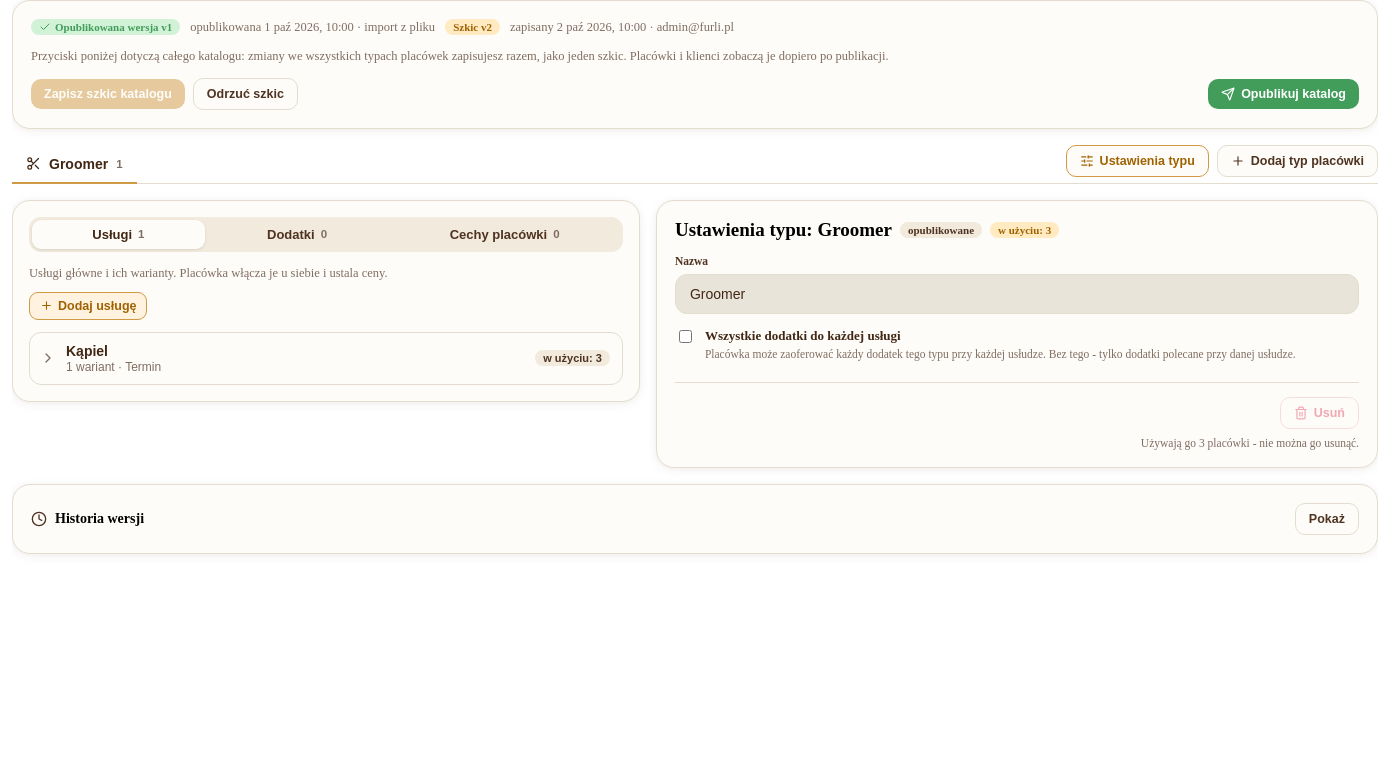
Scenario: Katalog usług › publishes a draft without issues after confirmation
The width and height of the screenshot is (1390, 768).
Click the button "Opublikuj katalog".
click(1284, 94)  # box [1208, 79, 1359, 109]
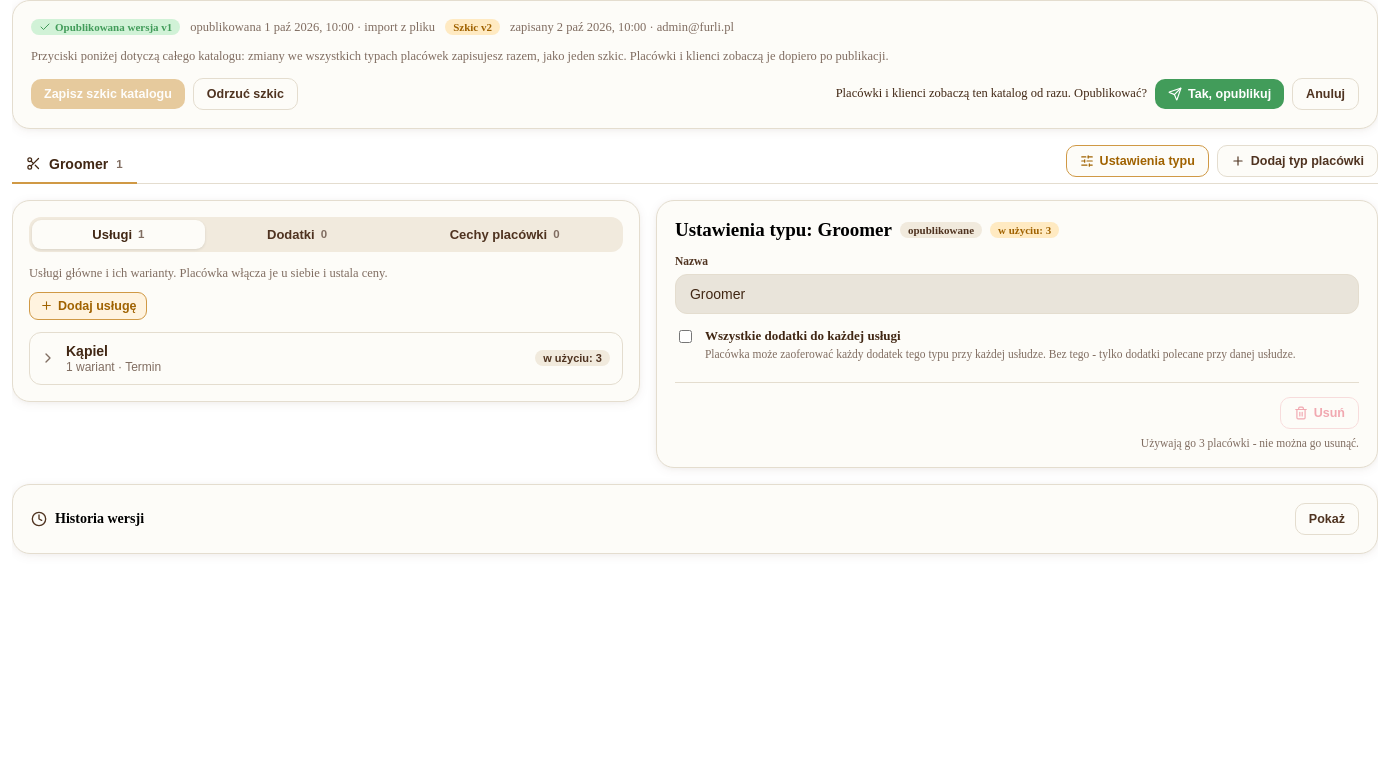
Click the button "Tak, opublikuj".
click(1220, 94)  # box [1155, 79, 1284, 109]
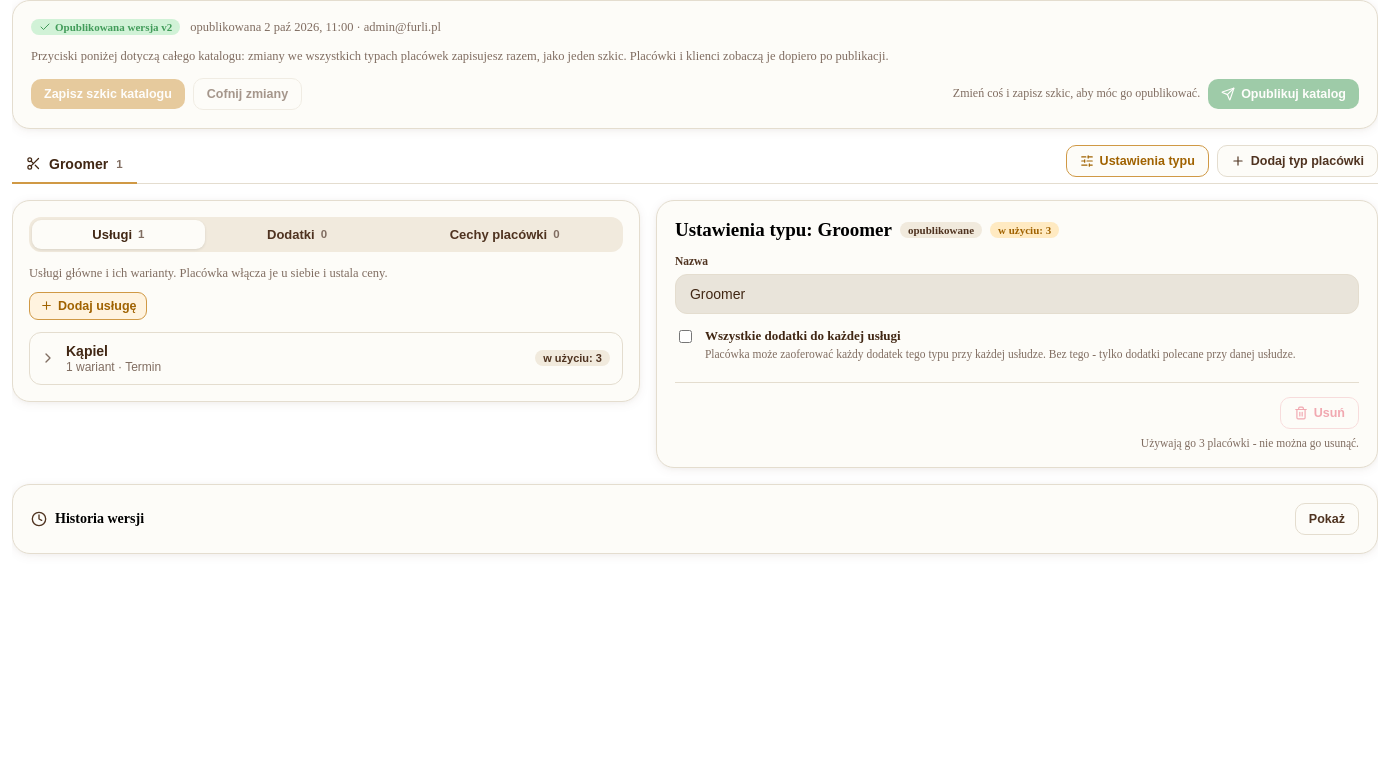
Result: the text "Opublikowana wersja v2" is shown at [31, 19, 180, 35]
